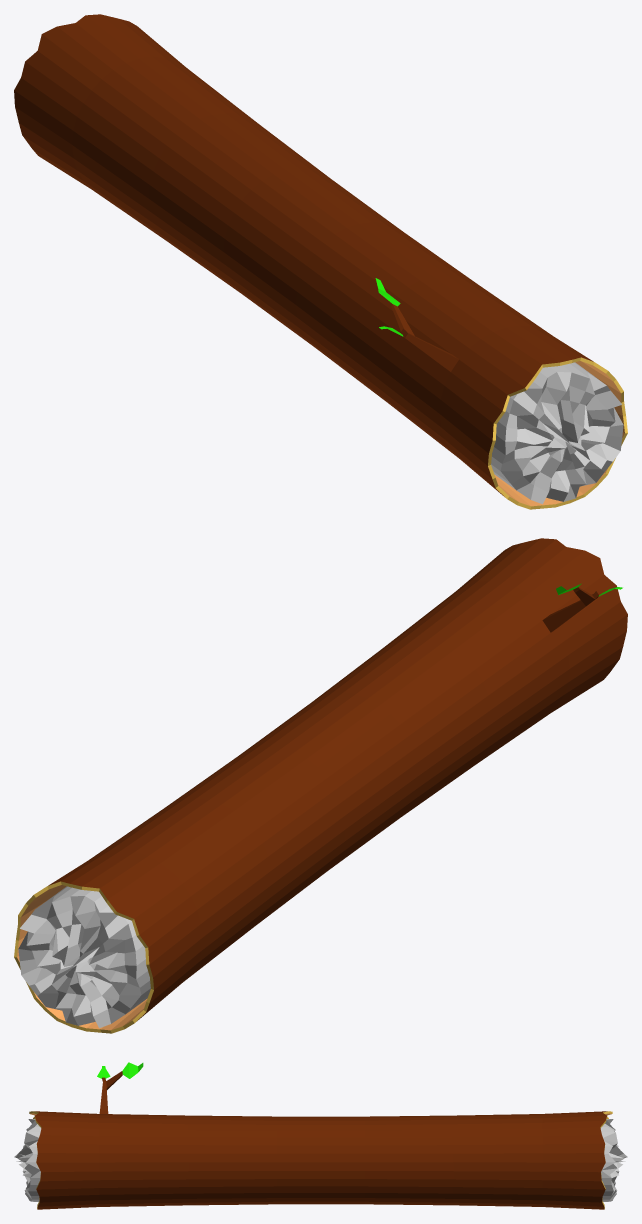
Rendered from logwithbark.obj.
The picture shows the model from 3 angles, top to bottom: view 1: azimuth 30°, elevation 25°; view 2: azimuth 150°, elevation 25°; view 3: azimuth 270°, elevation 25°; orthographic projection. The views are drawn at different scales.
Parts seen in each view (by area): view 1: Cylinder.001, Cylinder; view 2: Cylinder.001, Cylinder; view 3: Cylinder.001, Cylinder.
Part boxes in pixels (<box>): Cylinder.001: <box>14,14,627,509</box>; Cylinder: <box>491,362,623,504</box>; Cylinder.001: <box>14,538,627,1033</box>; Cylinder: <box>18,886,150,1028</box>; Cylinder.001: <box>29,1062,612,1209</box>; Cylinder: <box>14,1119,627,1201</box>.
Size of the model in its own units: 3.24 by 3.04 by 14.73.
2 materials, 1 textured.
